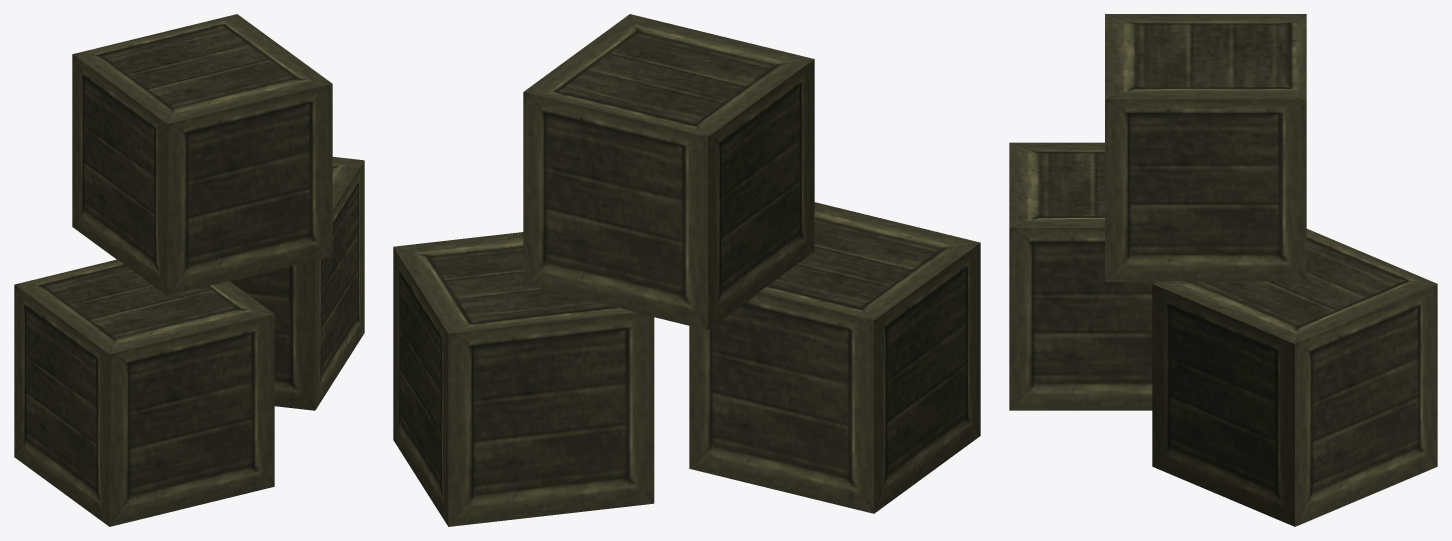
The model's file is WoodenBox03_GodWar_002.FBX.
3 views of the same model, side by side, from view 1: azimuth 30°, elevation 25°; view 2: azimuth 150°, elevation 25°; view 3: azimuth 270°, elevation 25° (orthographic). The views are drawn at different scales.
Parts seen in each view (by area): view 1: WoodenBox03_GodWar_002; view 2: WoodenBox03_GodWar_002; view 3: WoodenBox03_GodWar_002.
Part boxes in pixels (x1=…): WoodenBox03_GodWar_002: x1=14, y1=14, x2=364, y2=526; WoodenBox03_GodWar_002: x1=393, y1=14, x2=980, y2=526; WoodenBox03_GodWar_002: x1=1009, y1=14, x2=1437, y2=526.
Bounding box in the file's own units: 93.04 × 78.58 × 83.63.
1 material, 1 textured.
